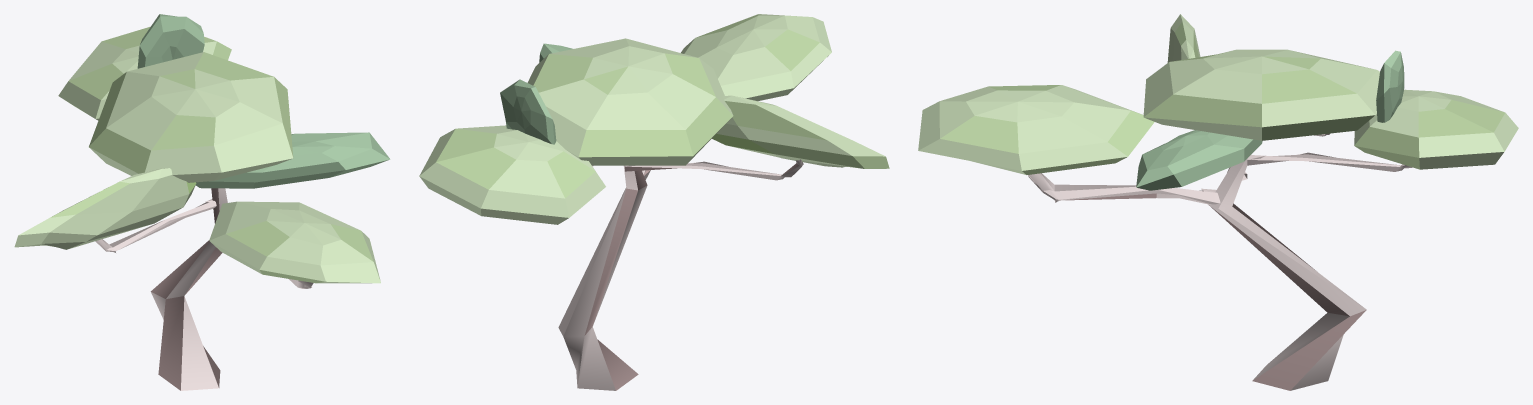
The model's file is arbol2.fbx.
3 views of the same model, side by side, from view 1: azimuth 30°, elevation 25°; view 2: azimuth 150°, elevation 25°; view 3: azimuth 270°, elevation 25° (orthographic). The views are drawn at different scales.
Visible parts, largest first — view 1: pSphere13; view 2: pSphere13; view 3: pSphere13.
Boxes of the visible parts, x1,y1,x2,y2 form: pSphere13: (14, 14, 390, 390); pSphere13: (419, 14, 889, 390); pSphere13: (918, 14, 1518, 390).
Size of the model in its own units: 0.1072 by 0.0924 by 0.1498.
